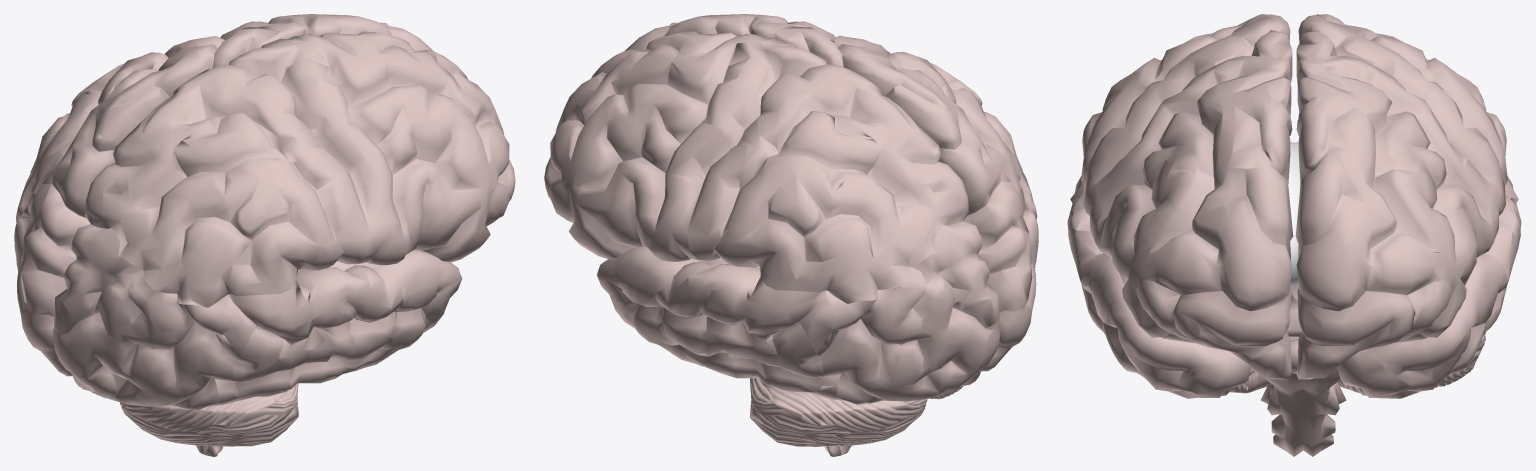
File: brain.dae
3 renders of one model, left to right at view 1: azimuth 30°, elevation 25°; view 2: azimuth 150°, elevation 25°; view 3: azimuth 270°, elevation 25°, orthographic. The views are drawn at different scales.
Parts seen in each view (by area): view 1: pariet (×2), frontal (×2), occipit (×2), temp, cereb; view 2: pariet (×2), frontal (×2), occipit (×2), temp, cereb; view 3: frontal (×2), temp (×2), pariet (×2), stem, corpus, cereb.
Boxes of the visible parts, x1=… form: pariet (×2): x1=22, y1=36, x2=370, y2=307; frontal (×2): x1=212, y1=14, x2=515, y2=265; occipit (×2): x1=14, y1=183, x2=256, y2=409; temp: x1=205, y1=250, x2=462, y2=407; cereb: x1=90, y1=383, x2=298, y2=446; pariet (×2): x1=687, y1=35, x2=1030, y2=303; frontal (×2): x1=544, y1=14, x2=843, y2=261; occipit (×2): x1=799, y1=181, x2=1038, y2=404; temp: x1=597, y1=246, x2=846, y2=401; cereb: x1=750, y1=378, x2=963, y2=446; frontal (×2): x1=1083, y1=30, x2=1505, y2=379; temp (×2): x1=1067, y1=176, x2=1521, y2=398; pariet (×2): x1=1081, y1=14, x2=1507, y2=203; stem: x1=1251, y1=287, x2=1346, y2=456; corpus: x1=1288, y1=142, x2=1300, y2=287; cereb: x1=1230, y1=332, x2=1485, y2=393.
Bounding box in the file's own units: 6.42 × 5.28 × 5.62.
